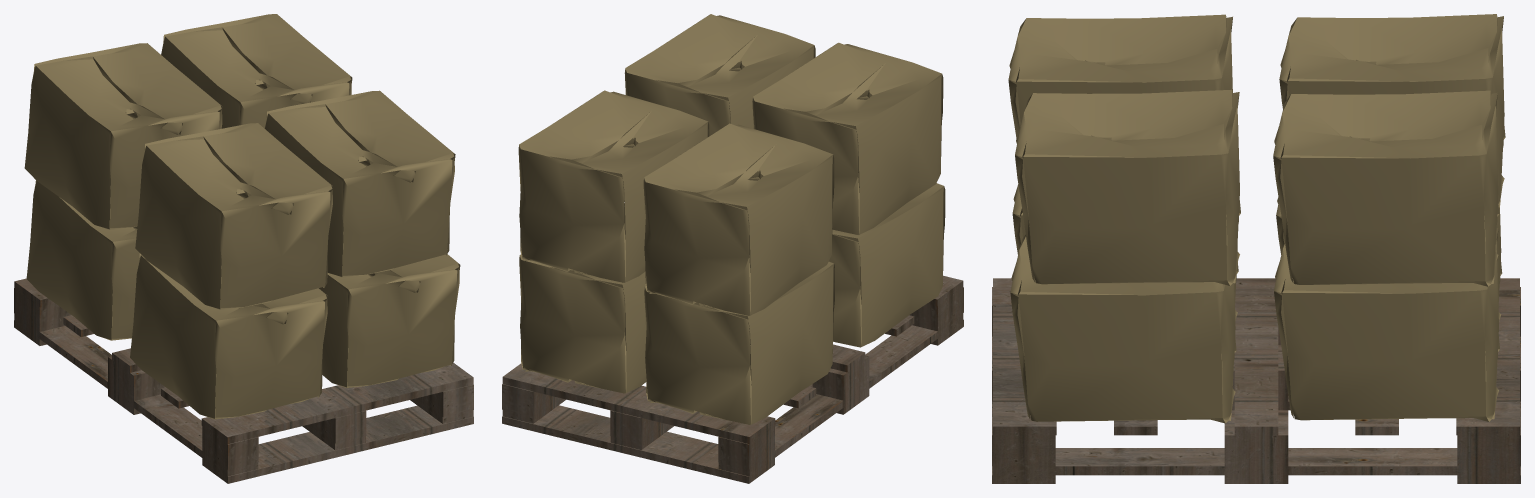
The model's file is pallet_cartons_low.glb.
3 renders of one model, left to right at view 1: azimuth 30°, elevation 25°; view 2: azimuth 150°, elevation 25°; view 3: azimuth 270°, elevation 25°, orthographic. The views are drawn at different scales.
Visible parts, largest first — view 1: pallet_cartons_low; view 2: pallet_cartons_low; view 3: pallet_cartons_low.
Part boxes in pixels (x1,y1,x2,y2): pallet_cartons_low: (14,14,473,483); pallet_cartons_low: (502,14,963,483); pallet_cartons_low: (992,14,1520,483).
Size of the model in its own units: 0.8136 by 0.8265 by 1.2.
2 materials, 2 textured.
